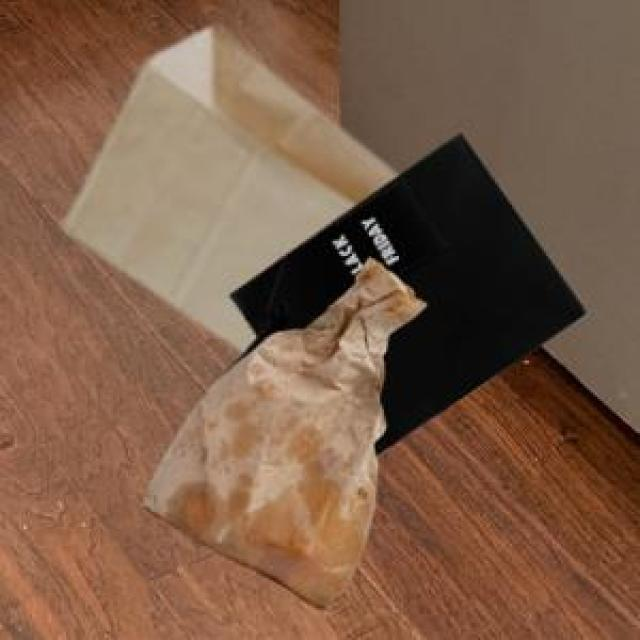paper: (226, 130, 580, 450), (62, 24, 393, 348), (137, 254, 422, 610)
